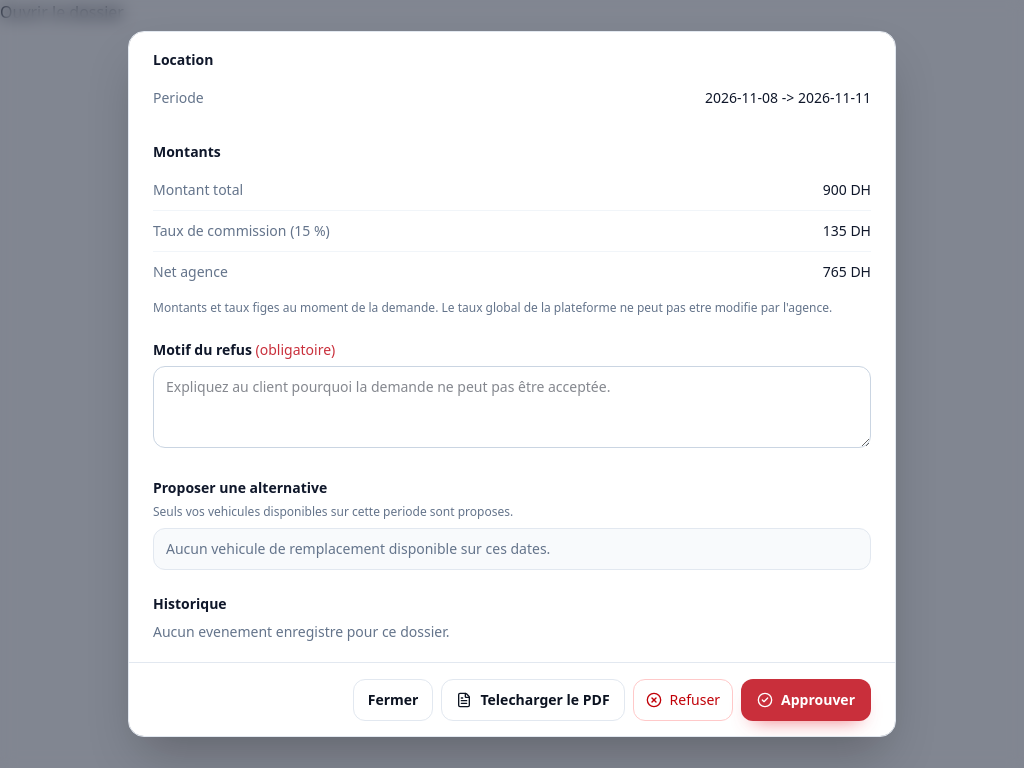
Test: Refus d’une demande par l’agence › sans motif : « Refuser » reste cliquable et explique ce qui manque (focus sur le motif)
This screenshot has width=1024, height=768.
(page scrolled)
Click the button "Refuser". click: (683, 700)
box: [633,679,733,721]
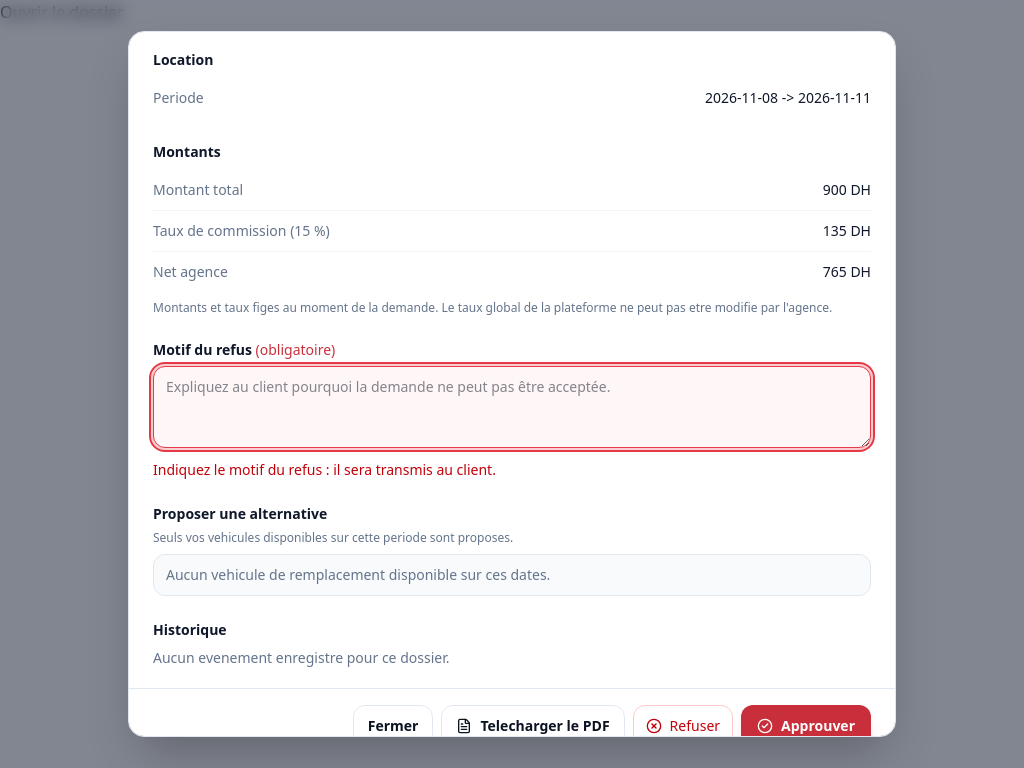
expect the text box labelled "Motif du refus (obligatoire)" is marked as invalid: met, box [153,366,871,448]
